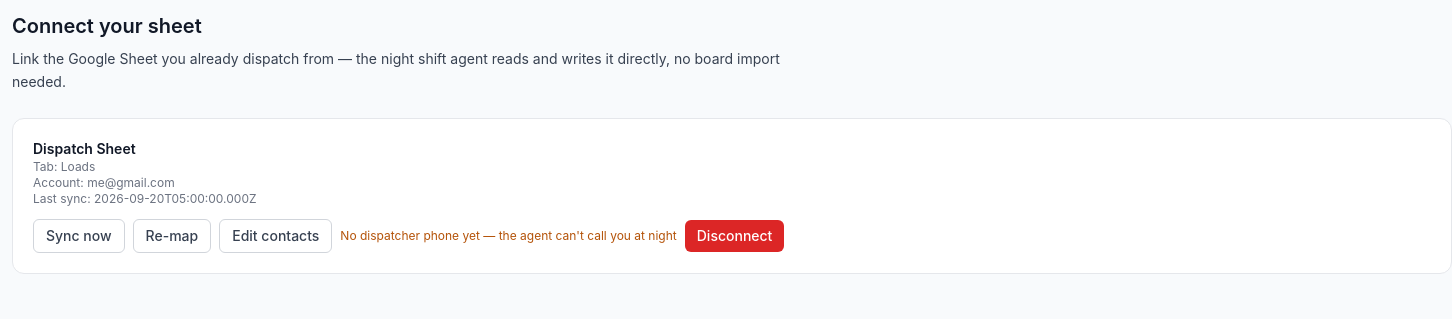
ConnectSheet › caps a long skipped-reasons list at three, then "…"
This screenshot has width=1452, height=319.
What coordinates should you click on to do the following:
click the button with test id "sync-now"
I would click on:
 (79, 236)
Its box is [33, 218, 125, 252].
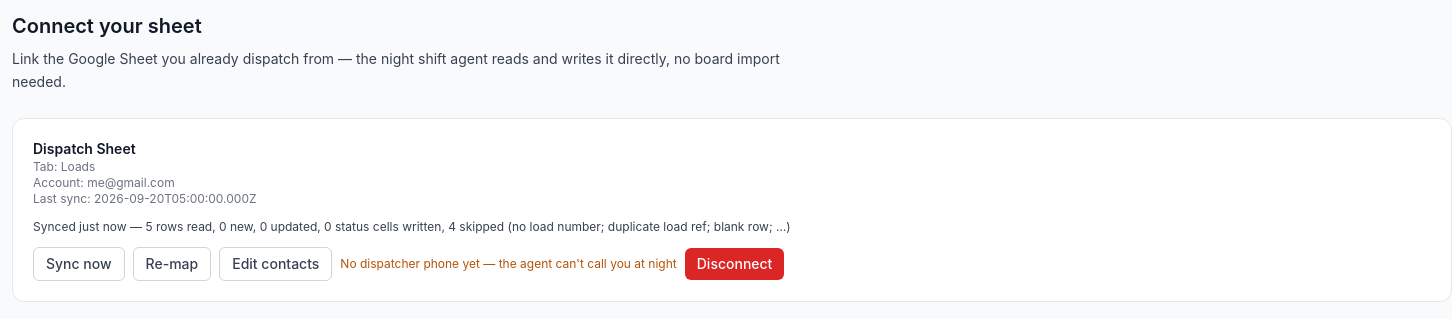
Expected: the text with test id "sync-result" shows "Synced just now — 5 rows read, 0 new, 0 updated, 0 status cells written, 4 skipped (no load number; duplicate load ref; blank row; …)", [33, 218, 791, 234]
